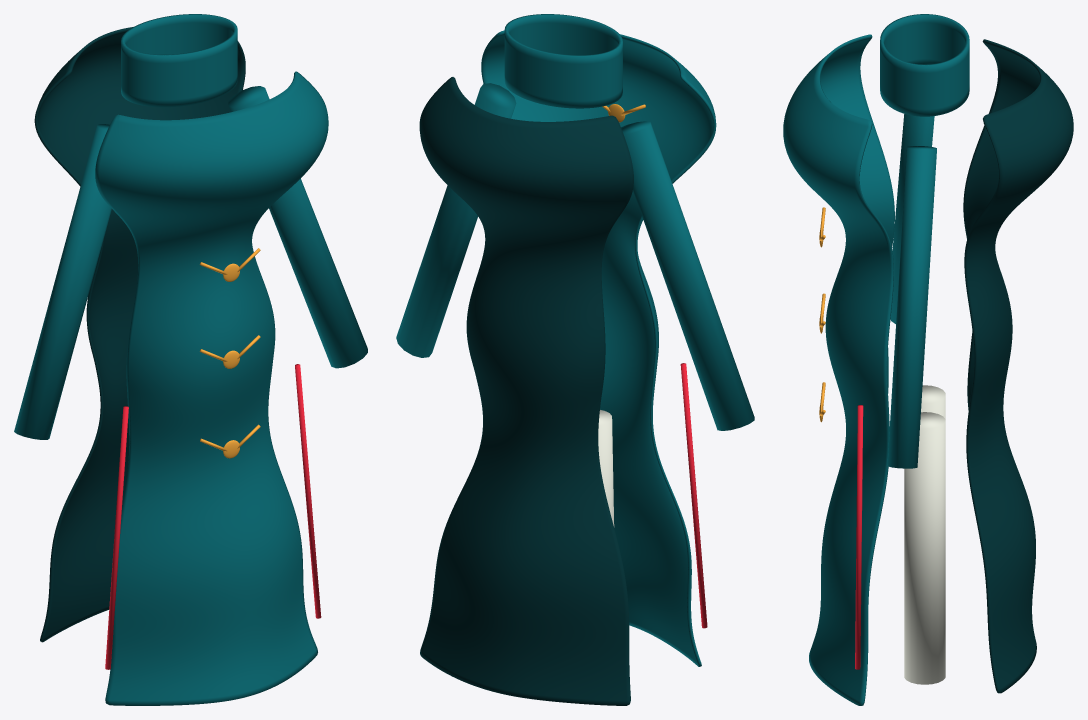
Rendered from BL_AODAI_005.obj.
3 renders of one model, left to right at view 1: azimuth 30°, elevation 25°; view 2: azimuth 150°, elevation 25°; view 3: azimuth 270°, elevation 25°, orthographic. The views are drawn at different scales.
Visible parts, largest first — view 1: front_ao_dai_panel, back_ao_dai_panel, silk_sleeve, structured_high_collar, silk_sleeve.001, side_slit_piping, side_slit_piping.002; view 2: back_ao_dai_panel, front_ao_dai_panel, silk_sleeve, structured_high_collar, silk_sleeve.001, side_slit_piping, ivory_trouser_leg; view 3: front_ao_dai_panel, back_ao_dai_panel, ivory_trouser_leg.001, silk_sleeve.001, structured_high_collar, silk_sleeve, side_slit_piping.002, ivory_trouser_leg.
Part boxes in pixels (x1,y1,x2,y2): front_ao_dai_panel: (95, 71, 328, 705); back_ao_dai_panel: (34, 27, 245, 642); silk_sleeve: (14, 124, 111, 439); structured_high_collar: (121, 14, 237, 107); silk_sleeve.001: (228, 86, 367, 368); side_slit_piping: (105, 406, 128, 669); side_slit_piping.002: (295, 364, 321, 618); back_ao_dai_panel: (419, 77, 633, 705); front_ao_dai_panel: (481, 30, 716, 666); silk_sleeve: (621, 121, 754, 430); structured_high_collar: (504, 14, 622, 108); silk_sleeve.001: (396, 83, 516, 357); side_slit_piping: (680, 363, 707, 628); ivory_trouser_leg: (598, 410, 614, 527); front_ao_dai_panel: (783, 34, 894, 705); back_ao_dai_panel: (963, 39, 1073, 693); ivory_trouser_leg.001: (904, 412, 945, 684); silk_sleeve.001: (887, 146, 936, 468); structured_high_collar: (880, 14, 969, 116); silk_sleeve: (890, 114, 934, 323); side_slit_piping.002: (855, 405, 863, 669); ivory_trouser_leg: (921, 385, 945, 418).
Bounding box in the file's own units: 1.44 × 2.45 × 1.04.
